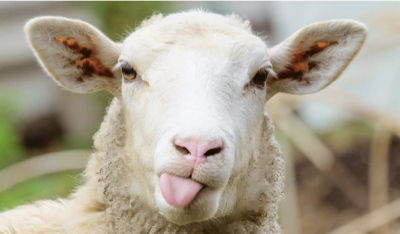koyun: (23, 13, 366, 224)
